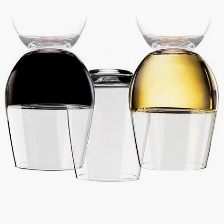glass: (127, 34, 224, 177), (57, 65, 166, 190), (0, 43, 97, 176)
